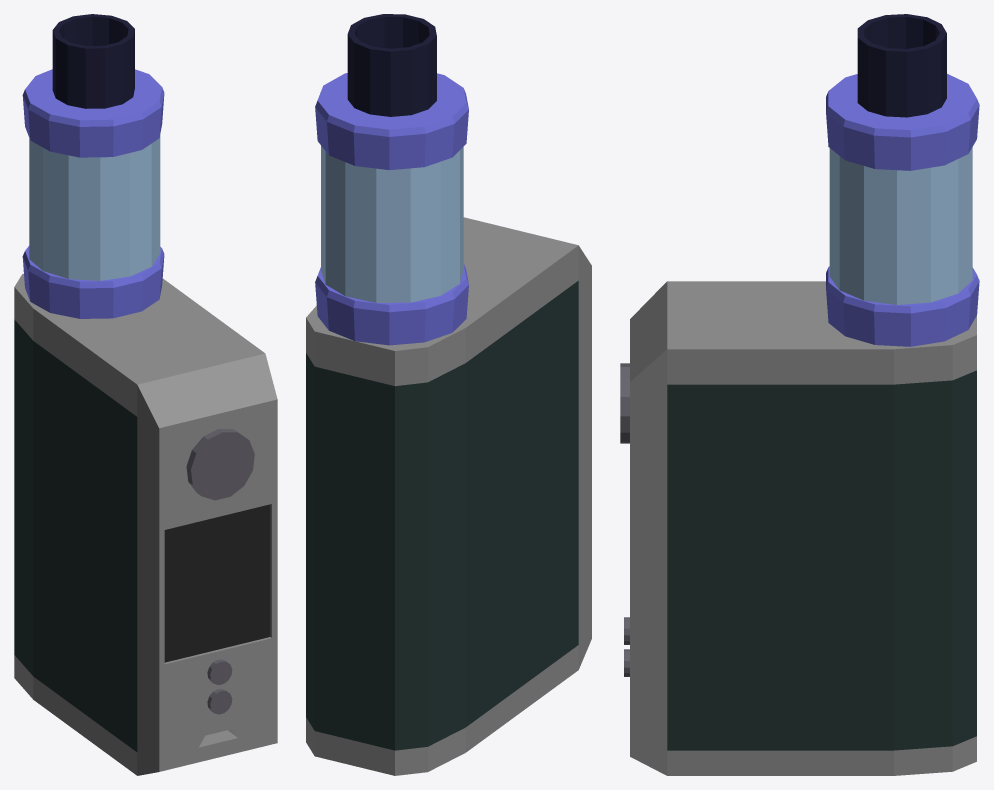
File: vape_kBOhB2eCji.glb
The picture shows the model from 3 angles, left to right: view 1: azimuth 30°, elevation 25°; view 2: azimuth 150°, elevation 25°; view 3: azimuth 270°, elevation 25°; orthographic projection. The views are drawn at different scales.
Visible parts, largest first — view 1: Cube.003, Cube.005, Cylinder.011, Cube.004, Cylinder.010, Cylinder.012, Cylinder.009, Cylinder.013, Cylinder.014, Cylinder.015; view 2: Cube.005, Cube.003, Cylinder.011, Cylinder.010, Cylinder.012, Cylinder.009; view 3: Cube.005, Cube.003, Cylinder.011, Cylinder.010, Cylinder.012, Cylinder.009, Cylinder.013.
Boxes of the visible parts, x1,y1,x2,y2 form: Cube.003: [14, 273, 277, 775]; Cube.005: [14, 319, 137, 751]; Cylinder.011: [29, 135, 160, 280]; Cube.004: [164, 504, 270, 662]; Cylinder.010: [22, 69, 164, 157]; Cylinder.012: [52, 14, 134, 108]; Cylinder.009: [22, 246, 164, 318]; Cylinder.013: [186, 429, 254, 500]; Cylinder.014: [207, 659, 232, 685]; Cylinder.015: [207, 689, 232, 714]; Cube.005: [306, 281, 578, 750]; Cube.003: [306, 217, 591, 775]; Cylinder.011: [321, 146, 463, 302]; Cylinder.010: [315, 73, 468, 170]; Cylinder.012: [347, 14, 436, 116]; Cylinder.009: [315, 264, 468, 345]; Cube.005: [667, 370, 976, 750]; Cube.003: [630, 281, 976, 775]; Cylinder.011: [829, 147, 972, 304]; Cylinder.010: [826, 73, 979, 170]; Cylinder.012: [857, 14, 946, 117]; Cylinder.009: [826, 266, 979, 346]; Cylinder.013: [620, 363, 629, 443].
Bounding box in the file's own units: 0.6849 × 3.32 × 1.53.
